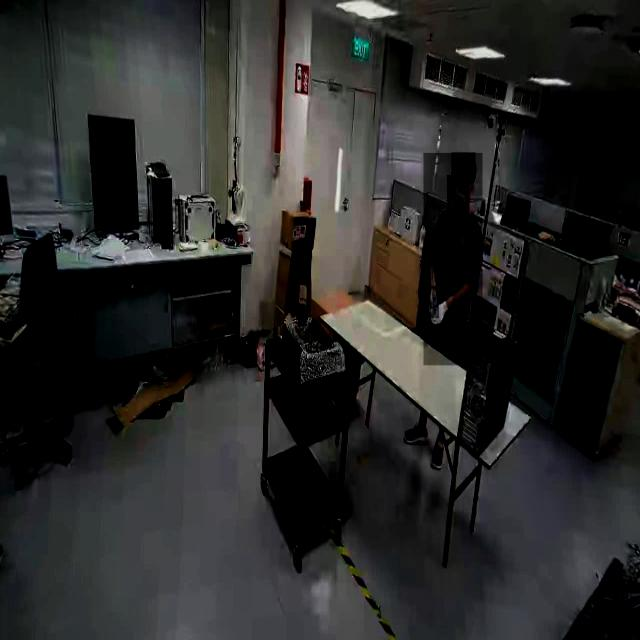face_mask: (447, 175, 469, 219)
hand_glove: (431, 293, 453, 337), (425, 286, 439, 318)
head_nohelmet: (452, 152, 476, 174)
person: (423, 153, 483, 366)
shoes: (428, 434, 448, 474), (403, 417, 430, 446)
